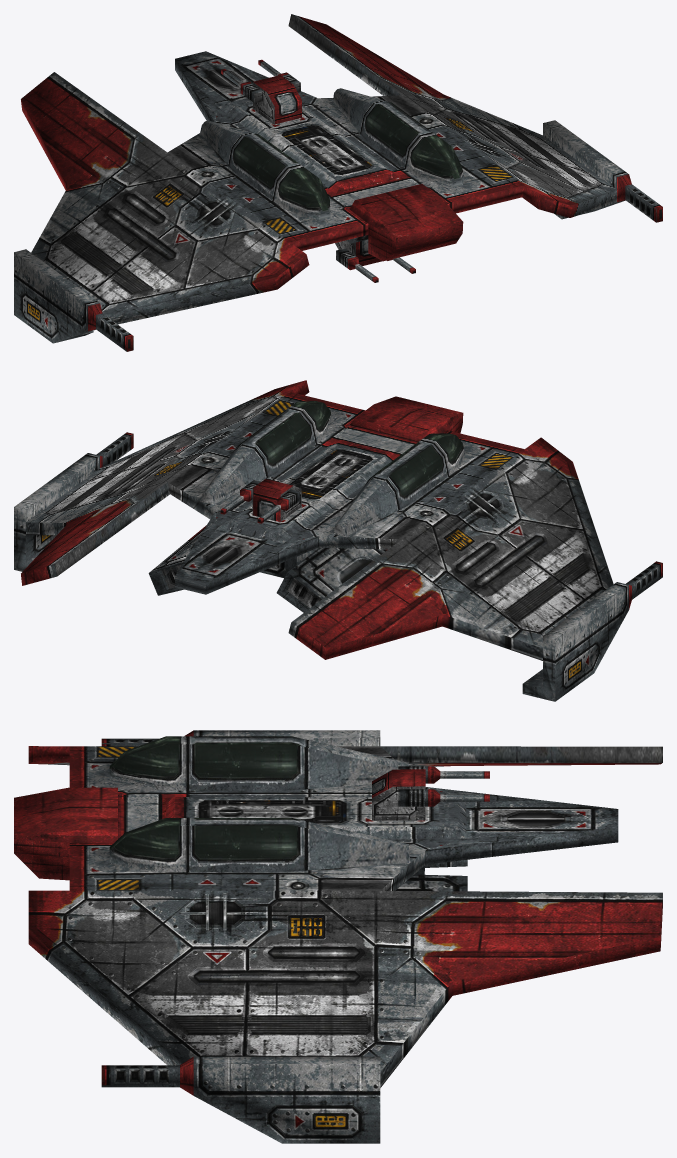
Rendered from tempest.glb.
The picture shows the model from 3 angles, top to bottom: view 1: azimuth 30°, elevation 25°; view 2: azimuth 150°, elevation 25°; view 3: azimuth 270°, elevation 25°; orthographic projection. The views are drawn at different scales.
Parts seen in each view (by area): view 1: Tempest Body, Tempest Co-pilot, Tempest Pilot Cabin, Tempest tur base, Tempest tur guns, Tempest tur guns 2, Tempest tur base 2; view 2: Tempest Body, Tempest Pilot Cabin, Tempest Co-pilot, Tempest tur base, Tempest tur guns; view 3: Tempest Body, Tempest Co-pilot, Tempest Pilot Cabin, Tempest tur base, Tempest tur guns.
Part boxes in pixels (bbox=[...]): Tempest Body: bbox=[14, 14, 662, 351]; Tempest Co-pilot: bbox=[333, 88, 464, 187]; Tempest Pilot Cabin: bbox=[200, 120, 330, 219]; Tempest tur base: bbox=[253, 75, 301, 124]; Tempest tur guns: bbox=[221, 59, 300, 103]; Tempest tur guns 2: bbox=[336, 248, 415, 282]; Tempest tur base 2: bbox=[335, 239, 382, 265]; Tempest Body: bbox=[14, 380, 662, 701]; Tempest Pilot Cabin: bbox=[334, 433, 465, 536]; Tempest Co-pilot: bbox=[201, 401, 331, 504]; Tempest tur base: bbox=[252, 479, 301, 521]; Tempest tur guns: bbox=[220, 480, 300, 523]; Tempest Body: bbox=[14, 730, 662, 1143]; Tempest Co-pilot: bbox=[109, 818, 410, 872]; Tempest Pilot Cabin: bbox=[109, 736, 408, 790]; Tempest tur base: bbox=[372, 769, 425, 820]; Tempest tur guns: bbox=[398, 766, 489, 806].
Bounding box in the file's own units: 1282 × 356 × 1054.
1 material, 1 textured.
